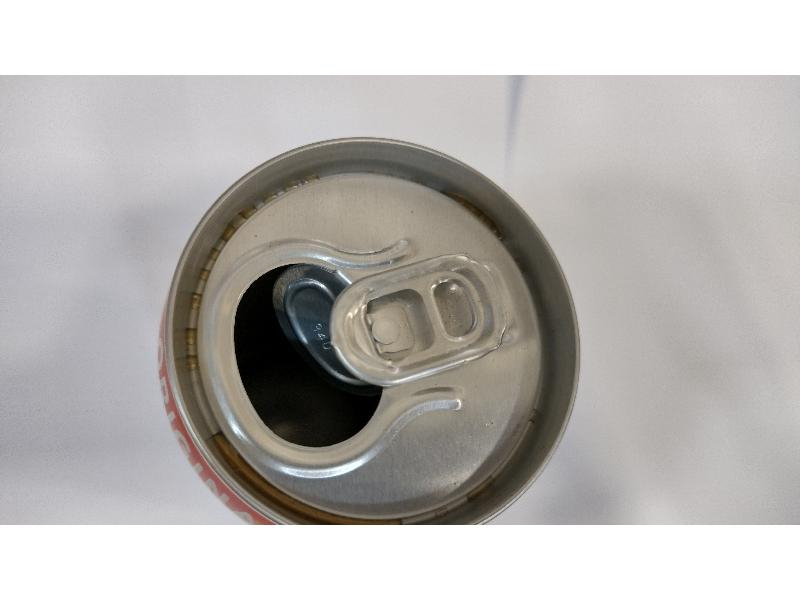can: (158, 134, 577, 524)
